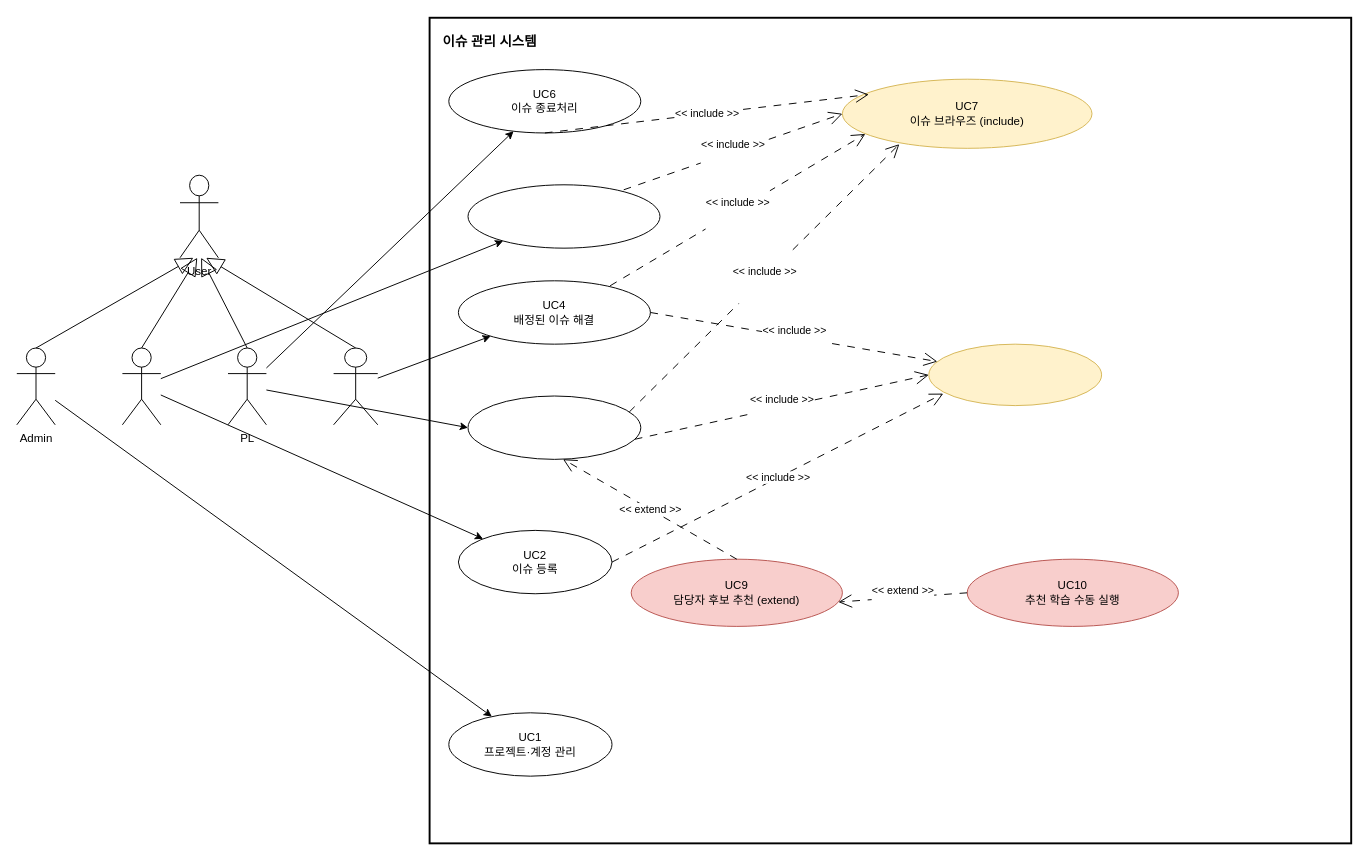
Some shapes in this 1369 by 860 pixel diagram are drawn without their labels. Each missing label, with the centre of its shape:
"dev" goes at (355,386).
"Tester" goes at (141,386).
"UC3 이슈 배정" goes at (554,427).
"UC5 수정된 이슈 확인" goes at (563,216).
"UC8 코멘트 추가 (include)" goes at (1015,374).
